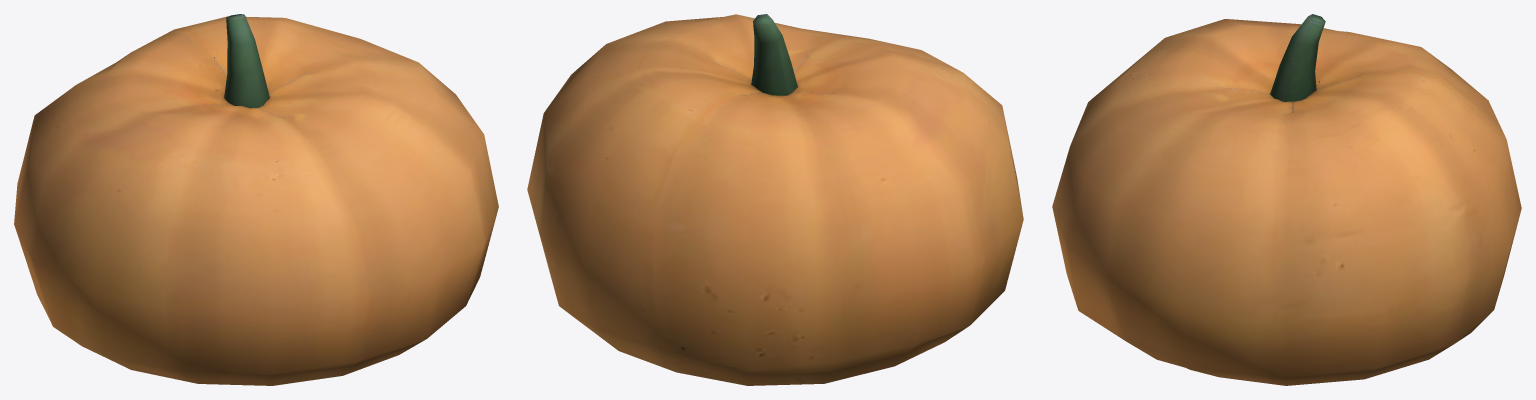
3 views of the same model, side by side, from view 1: azimuth 30°, elevation 25°; view 2: azimuth 150°, elevation 25°; view 3: azimuth 270°, elevation 25° (orthographic). The views are drawn at different scales.
Visible parts, largest first — view 1: body0_model0_lod0_mesh0; view 2: body0_model0_lod0_mesh0; view 3: body0_model0_lod0_mesh0.
Boxes of the visible parts, <box> form: body0_model0_lod0_mesh0: <box>14,14,498,385</box>; body0_model0_lod0_mesh0: <box>527,14,1023,385</box>; body0_model0_lod0_mesh0: <box>1052,14,1521,385</box>.
Size of the model in its own units: 83.33 by 56.8 by 79.64.
1 material, 1 textured.
